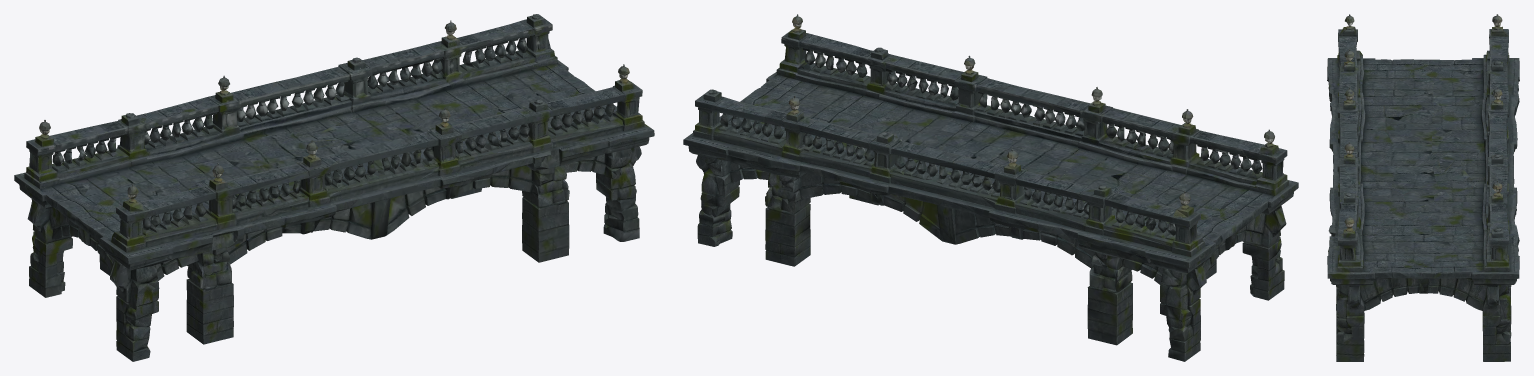
Rendered from mx_tr_gothic_bridge.glb.
The picture shows the model from 3 angles, left to right: view 1: azimuth 30°, elevation 25°; view 2: azimuth 150°, elevation 25°; view 3: azimuth 270°, elevation 25°; orthographic projection. The views are drawn at different scales.
Bounding box in the file's own units: 1.9 × 0.5879 × 0.7156.
1 material, 1 textured.
